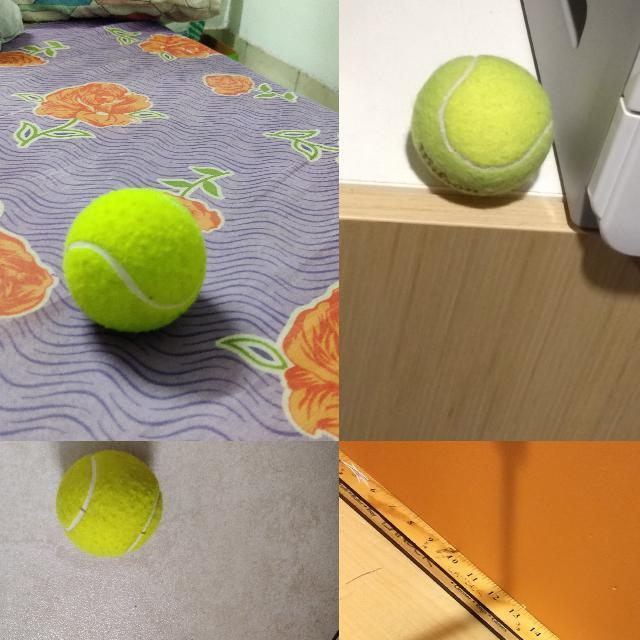tennis-ball: (63, 187, 207, 333), (410, 53, 555, 197), (56, 449, 163, 557)
